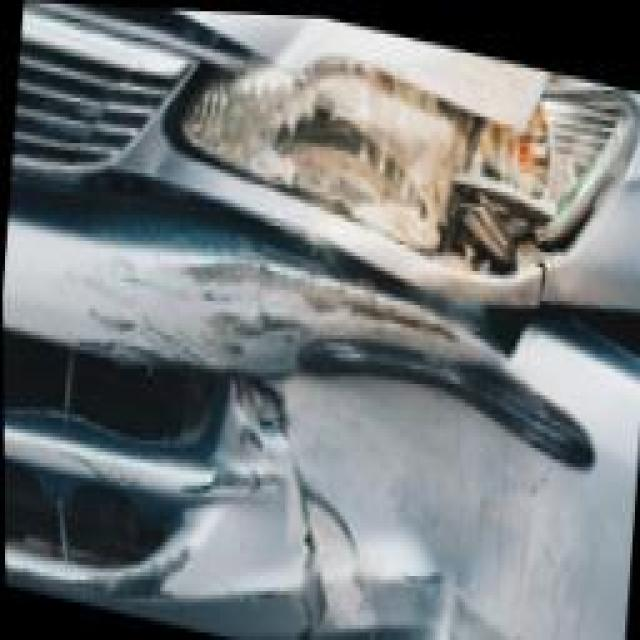Bumper: (2, 169, 640, 640)
Light: (198, 8, 640, 283)
